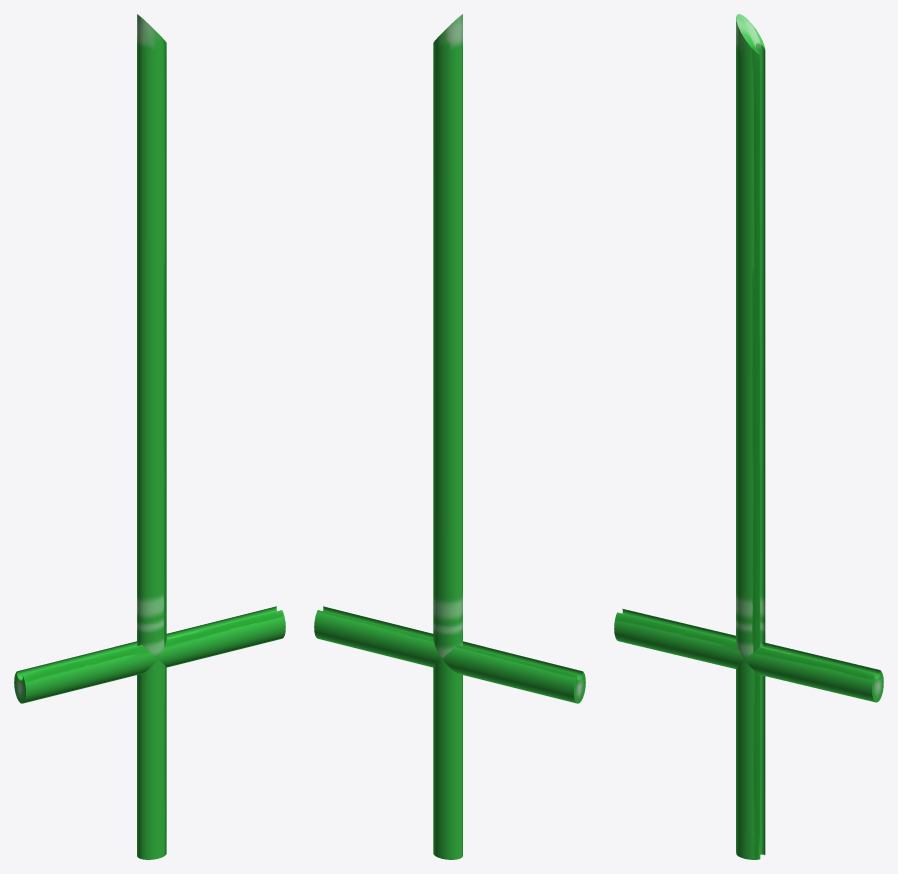
The picture shows the model from 3 angles, left to right: view 1: azimuth 30°, elevation 25°; view 2: azimuth 150°, elevation 25°; view 3: azimuth 330°, elevation 25°; orthographic projection.
Parts seen in each view (by area): view 1: pCylinder3, pasted__pCylinder3; view 2: pCylinder3, pasted__pCylinder3; view 3: pCylinder3, pasted__pCylinder3.
Boxes of the visible parts, x1=… form: pCylinder3: x1=137, y1=14, x2=166, y2=859; pasted__pCylinder3: x1=14, y1=606, x2=285, y2=703; pCylinder3: x1=433, y1=14, x2=462, y2=859; pasted__pCylinder3: x1=314, y1=606, x2=585, y2=703; pCylinder3: x1=736, y1=14, x2=765, y2=859; pasted__pCylinder3: x1=614, y1=608, x2=883, y2=702.
Size of the model in its own units: 7.45 by 23.07 by 0.596.
Materials: 2 (2 with a texture image).
